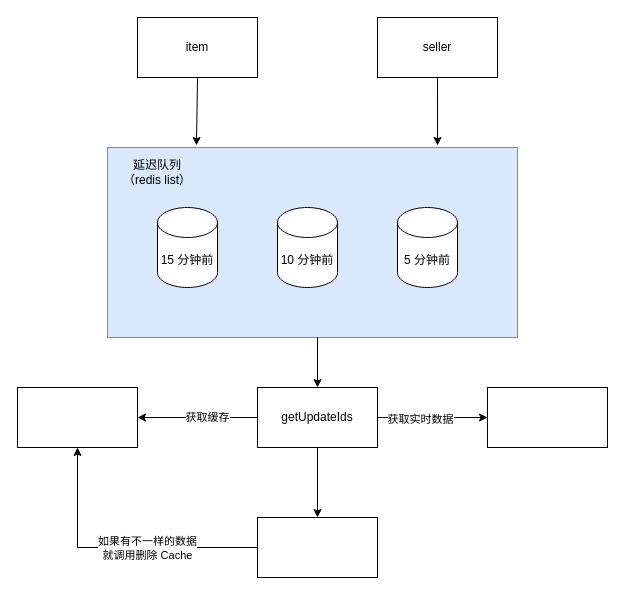
This 625x595 diagram has some shape labels left out. Here are the shapes that lost their labels. From the top down, the centre of each, then its label:
At (x=77, y=417): "Cache".
At (x=547, y=417): "Rpc".
At (x=317, y=547): "check".
